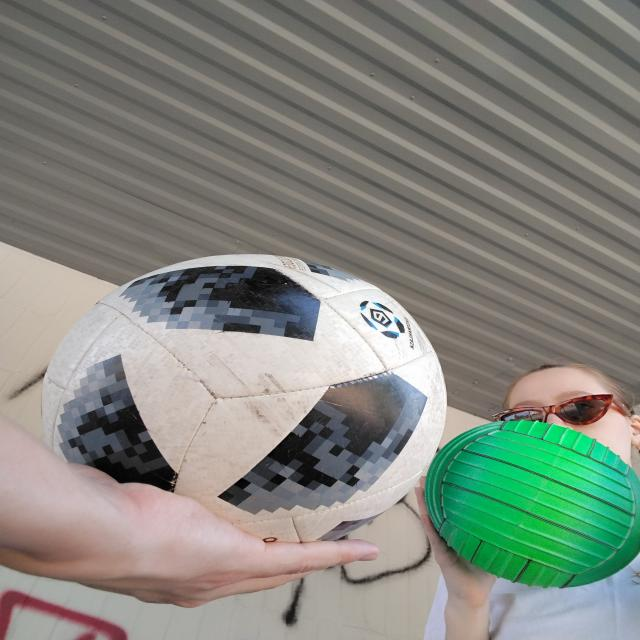nozna: (42, 253, 446, 550)
zielona: (426, 420, 640, 587)
